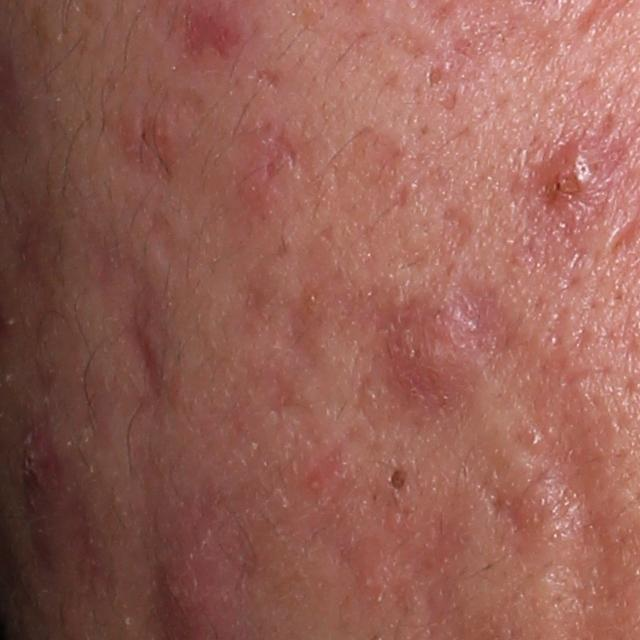atrophic_scar: (317, 126, 412, 303), (118, 275, 168, 394), (280, 276, 331, 366), (144, 204, 191, 271), (249, 123, 305, 171), (256, 375, 300, 432), (442, 203, 479, 251), (247, 66, 284, 90), (387, 181, 415, 209)
comedo: (382, 456, 414, 496)
nodule: (374, 300, 504, 426)
papule: (535, 152, 603, 209)
